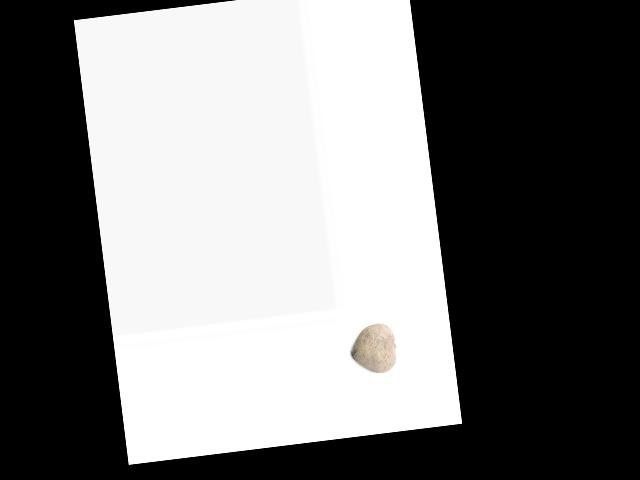beet: (347, 321, 398, 376)
